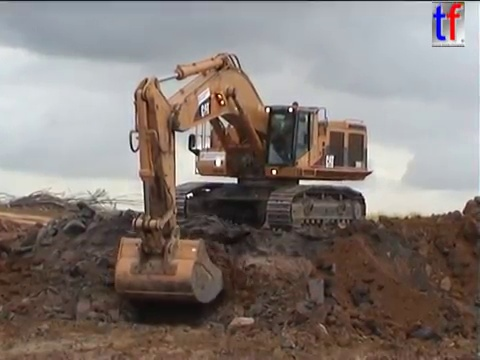excavator: (111, 49, 375, 310)
